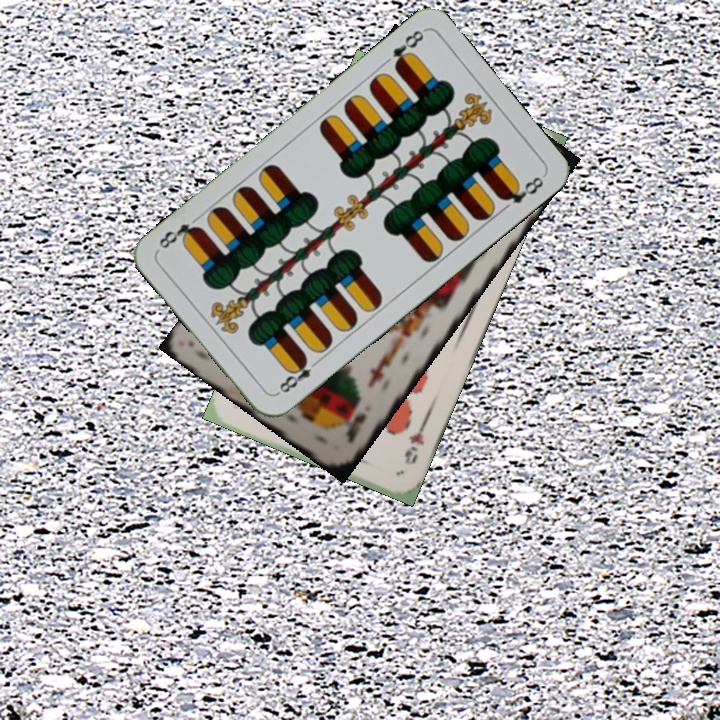E8: (272, 353, 323, 397), (388, 25, 427, 73)
H9: (400, 418, 429, 468)
SK: (342, 409, 369, 447)
